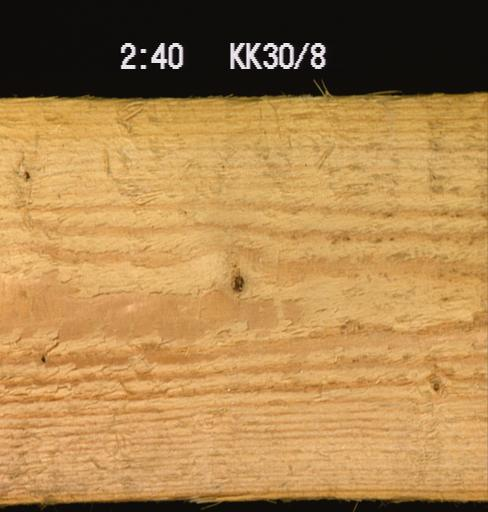small_knot: (14, 163, 39, 185), (426, 376, 449, 396)
